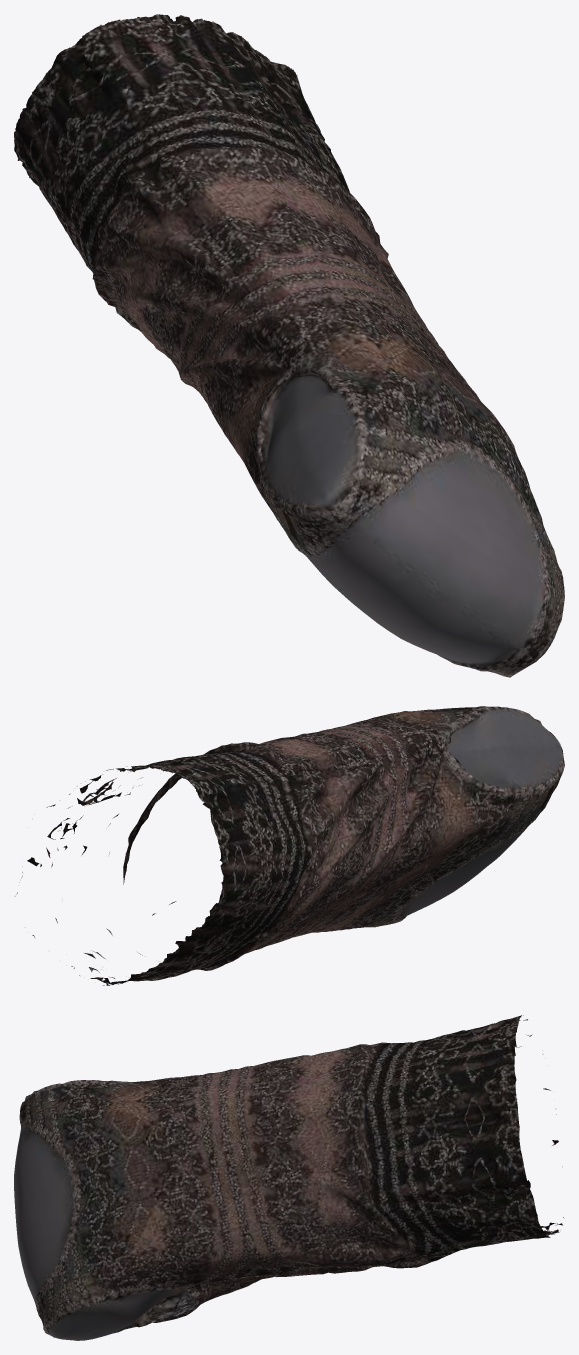
Rendered from cs_264155_001-20k-thumb.glb.
3 renders of one model, top to bottom at view 1: azimuth 30°, elevation 25°; view 2: azimuth 150°, elevation 25°; view 3: azimuth 270°, elevation 25°, orthographic. The views are drawn at different scales.
Size of the model in its own units: 0.3707 by 0.4358 by 0.7235.
Materials: 1 (1 with a texture image).
